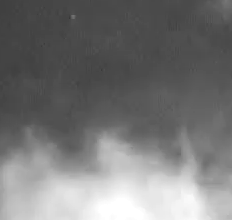Target: (72, 16, 76, 19)
